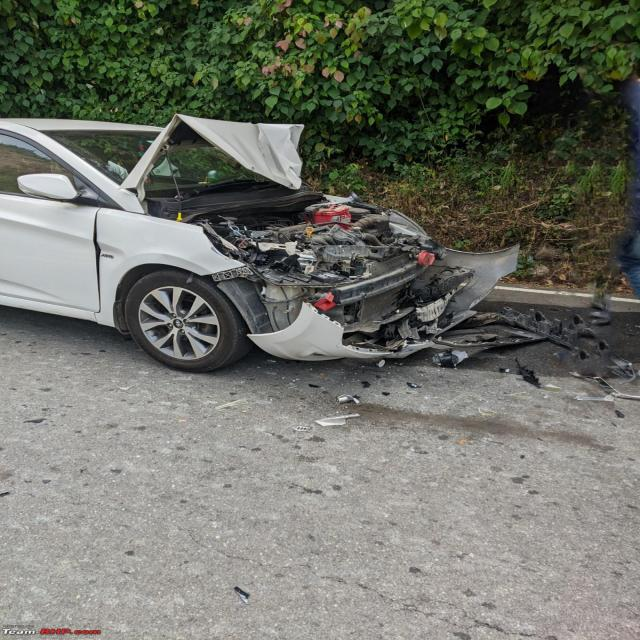accident: (0, 115, 540, 371)
